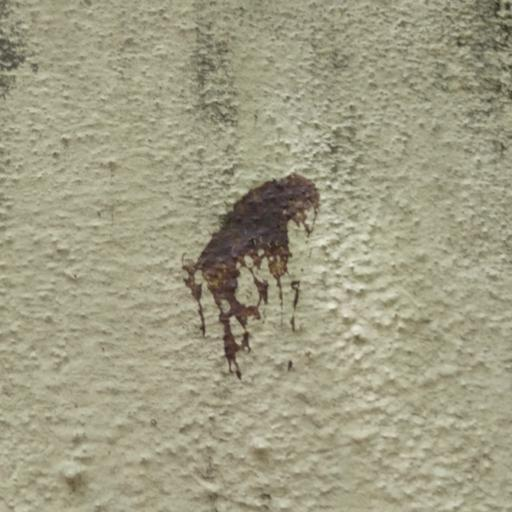stain: (155, 126, 361, 414)
